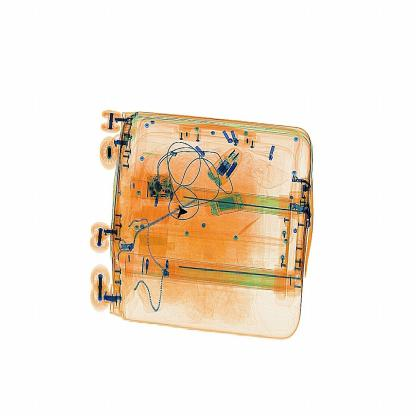gun: (163, 193, 199, 238)
